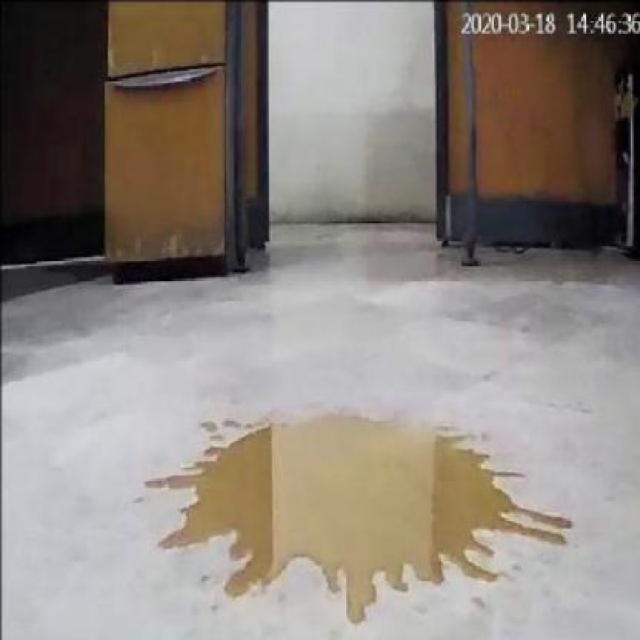spillage: (146, 415, 572, 626)
